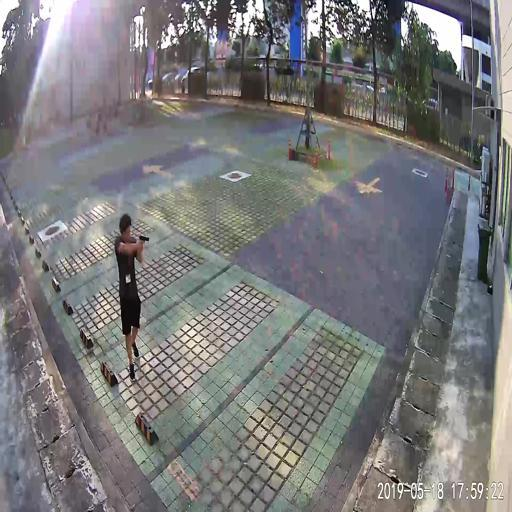Handgun: (137, 233, 148, 243)
